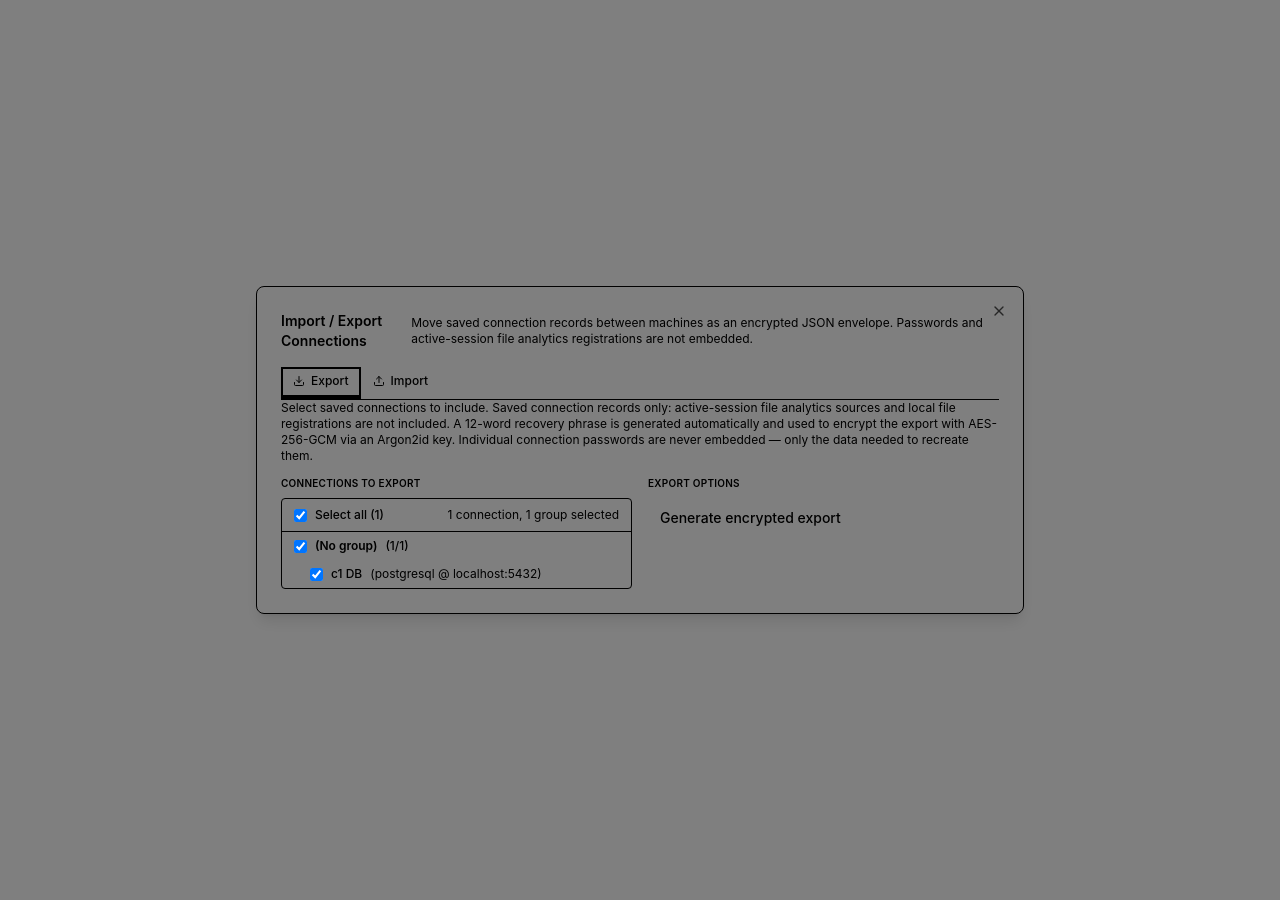
Scenario: ImportExportDialog › Export › [import-export] hides the encrypted JSON textarea behind a 'I have saved the recovery phrase' acknowledgement
This screenshot has width=1280, height=900.
Step 1. Click the button "Generate encrypted export" → (750, 518), box [648, 502, 853, 534]
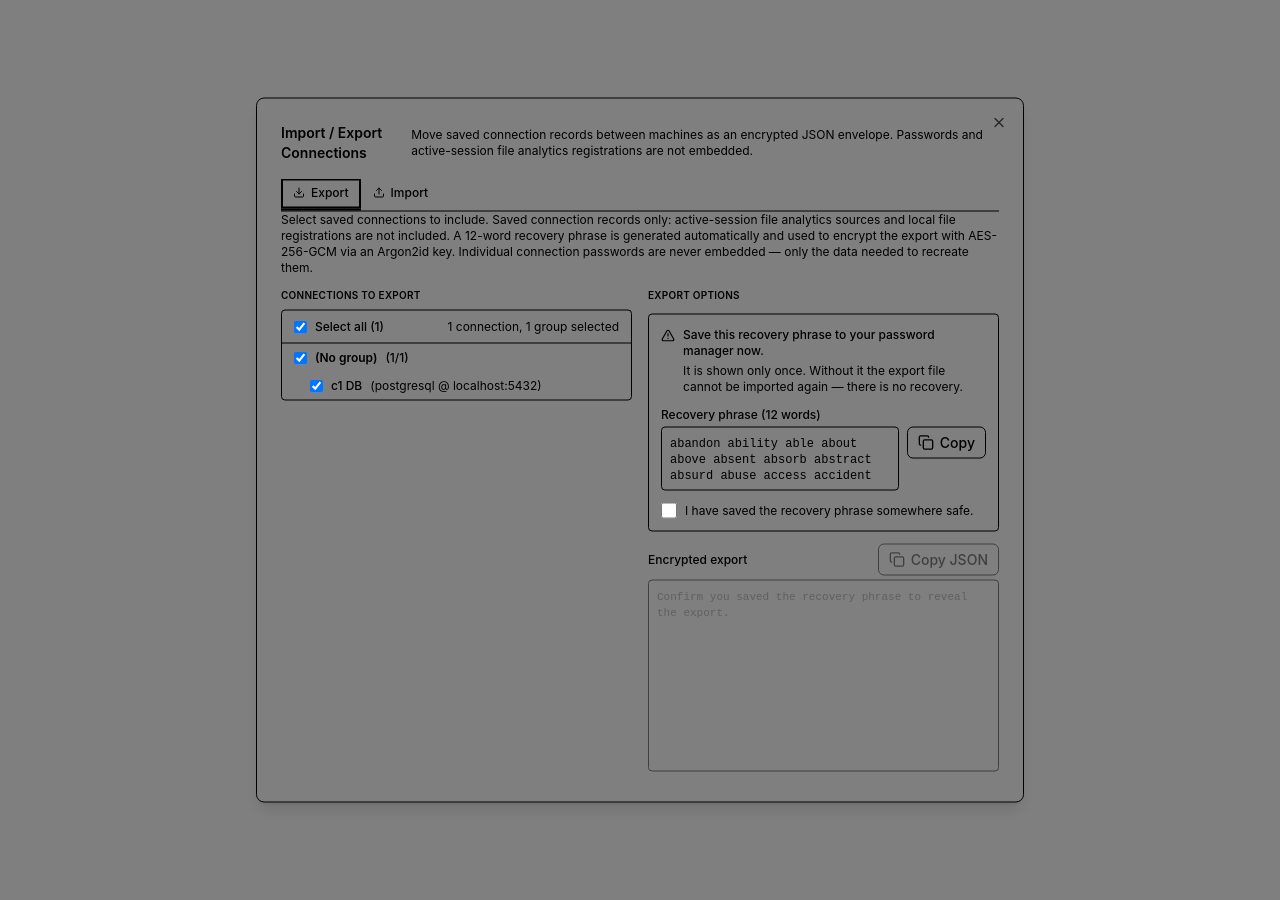
Expected: the text box named "Generated export JSON" is disabled, [648, 580, 999, 772]
Expected: the text box named "Generated export JSON" is empty, [648, 580, 999, 772]
Expected: the button with aria-label "copy export json to clipboard" is disabled, [878, 544, 999, 576]
// Tick the acknowledgement — JSON becomes readable + copy enabled.
Step 2. Click the checkbox labelled "I have saved the recovery phrase somewhere safe." → (669, 510), box [661, 502, 677, 518]
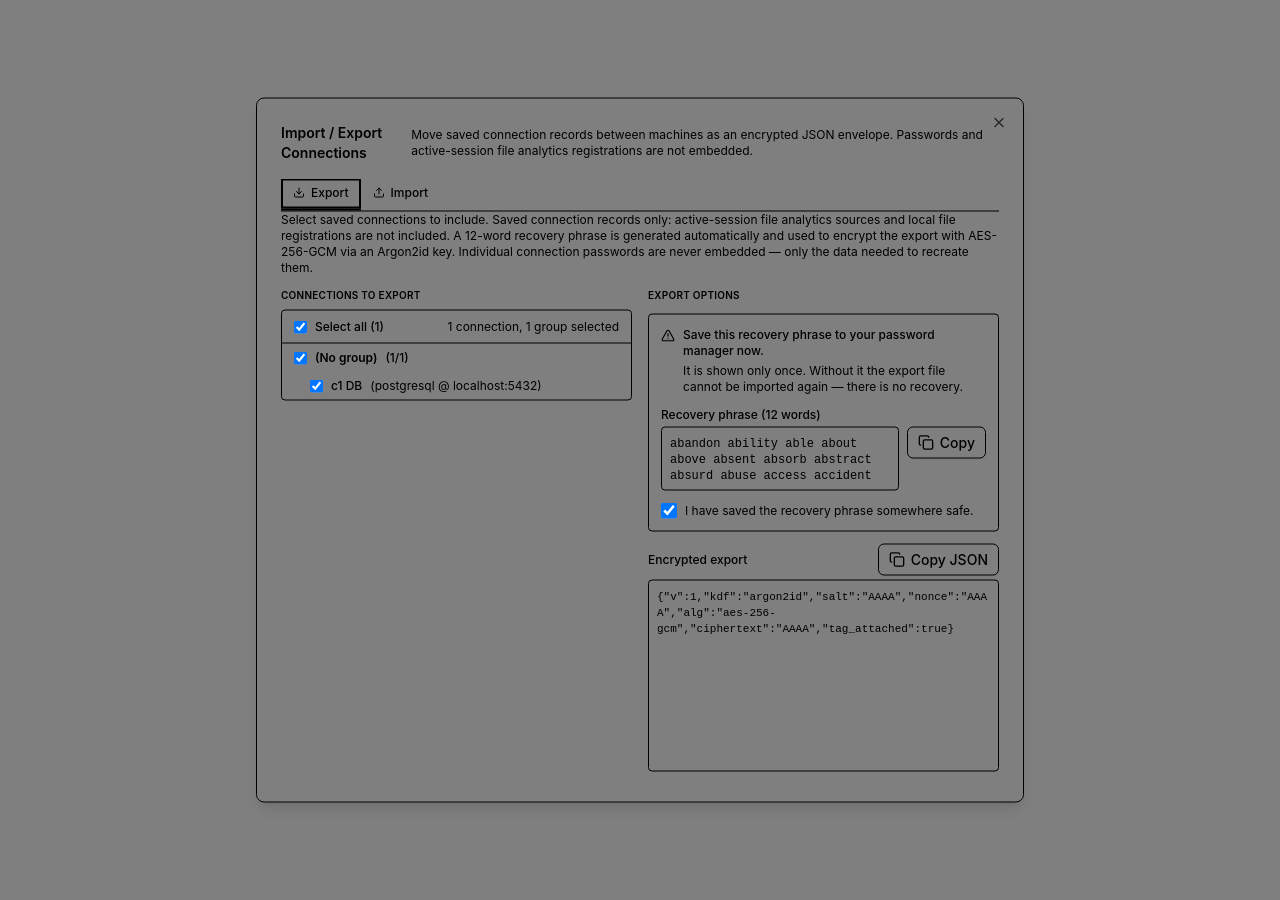
Expected: the text box named "Generated export JSON" is enabled, [648, 580, 999, 772]
Expected: the text box named "Generated export JSON" holds "{\"v\":1,\"kdf\":\"argon2id\",\"salt\":\"AAAA\",\"nonce\":\"AAAA\",\"alg\":\"aes-256-gcm\",\"ciphertext\":\"AAAA\",\"tag_attached\":true}", [648, 580, 999, 772]
Expected: the button with aria-label "copy export json to clipboard" is enabled, [878, 544, 999, 576]
